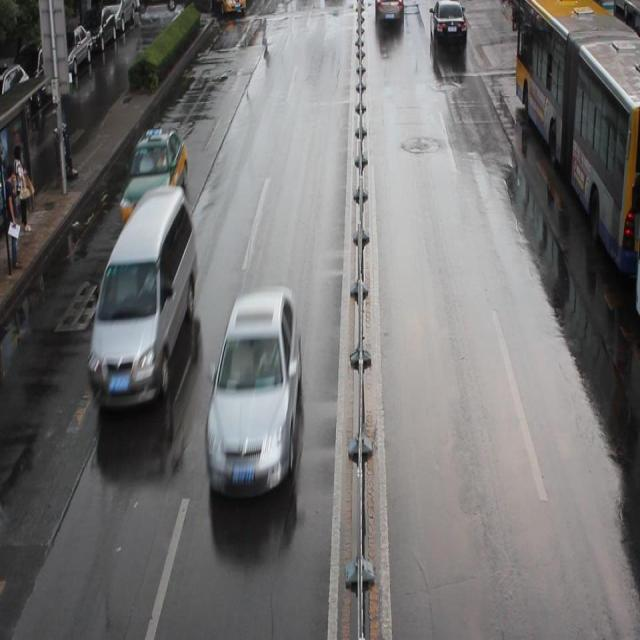car: (204, 285, 301, 498), (120, 127, 187, 229), (428, 1, 467, 51), (374, 1, 404, 25)
truck: (88, 185, 198, 412)
van: (514, 1, 640, 276), (632, 239, 640, 316)
